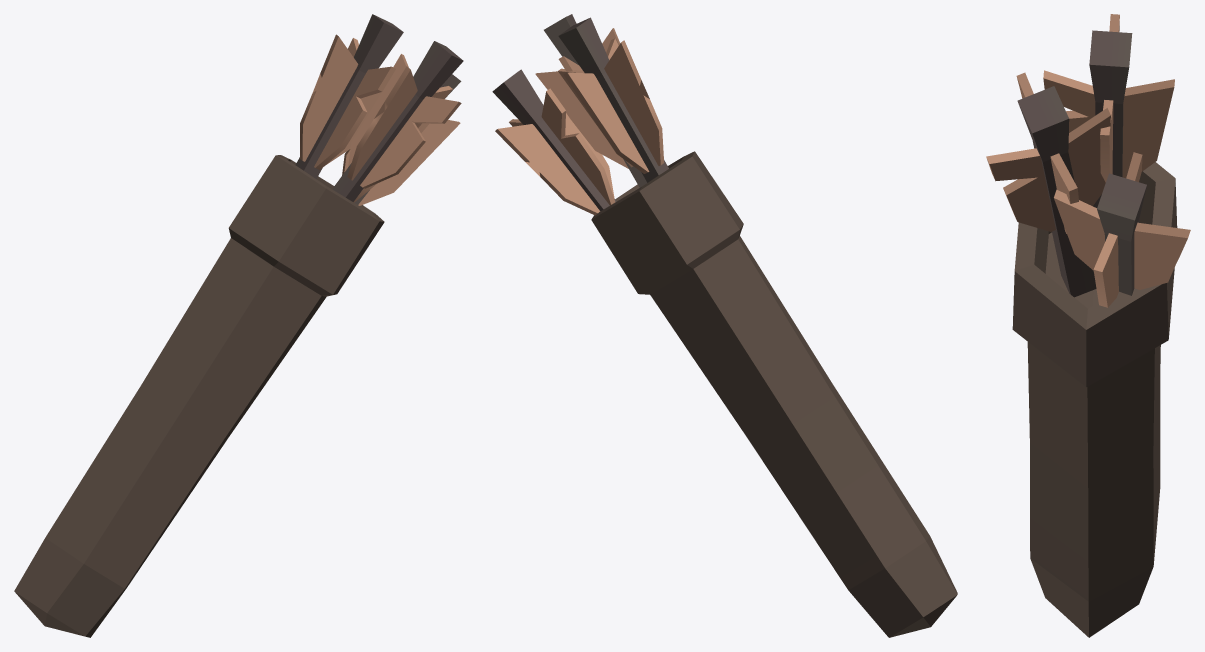
File: banditQuiver01.fbx
The picture shows the model from 3 angles, left to right: view 1: azimuth 30°, elevation 25°; view 2: azimuth 150°, elevation 25°; view 3: azimuth 270°, elevation 25°; orthographic projection. The views are drawn at different scales.
Visible parts, largest first — view 1: banditQuiver01; view 2: banditQuiver01; view 3: banditQuiver01.
Part boxes in pixels (box(x1,y1,x2,y2)): banditQuiver01: box(14, 14, 463, 637); banditQuiver01: box(492, 14, 957, 637); banditQuiver01: box(986, 14, 1190, 637).
Bounding box in the file's own units: 0.8237 × 0.9473 × 0.2127.
